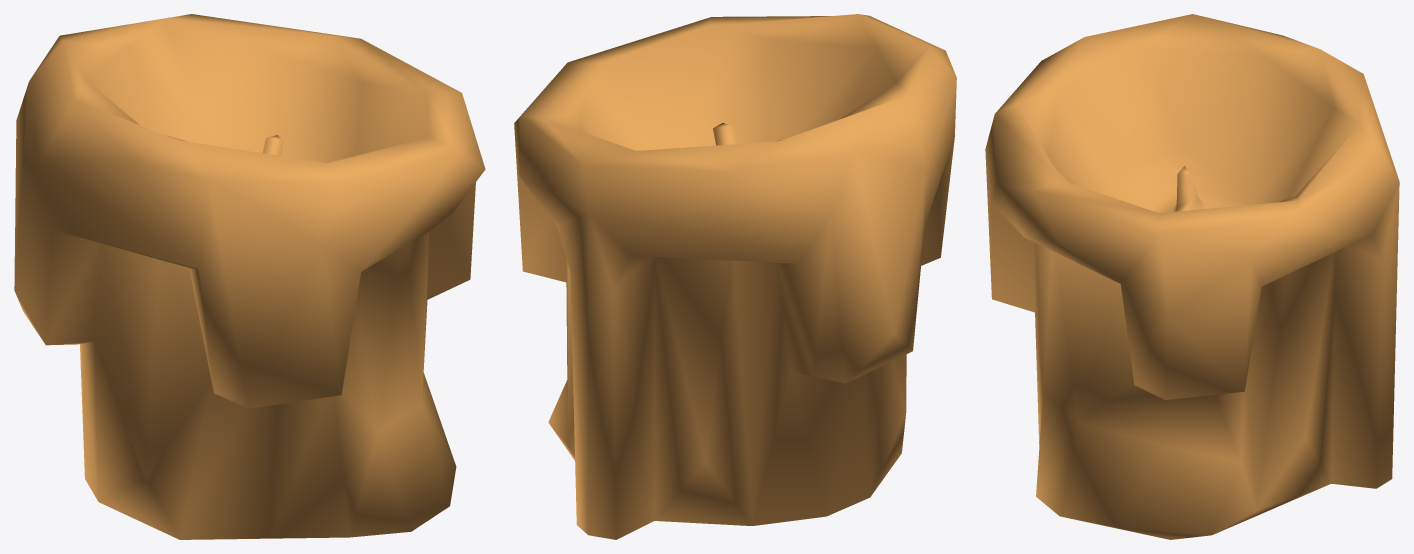
3 views of the same model, side by side, from view 1: azimuth 30°, elevation 25°; view 2: azimuth 150°, elevation 25°; view 3: azimuth 270°, elevation 25° (orthographic). The views are drawn at different scales.
Parts seen in each view (by area): view 1: Cylinder; view 2: Cylinder; view 3: Cylinder.
Boxes of the visible parts, x1=… form: Cylinder: x1=14, y1=14, x2=485, y2=539; Cylinder: x1=514, y1=14, x2=956, y2=539; Cylinder: x1=985, y1=14, x2=1399, y2=539.
Size of the model in its own units: 82.65 by 82.07 by 81.89.
